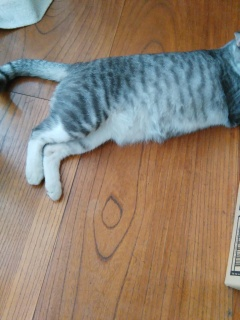Cat: (0, 30, 239, 203)
